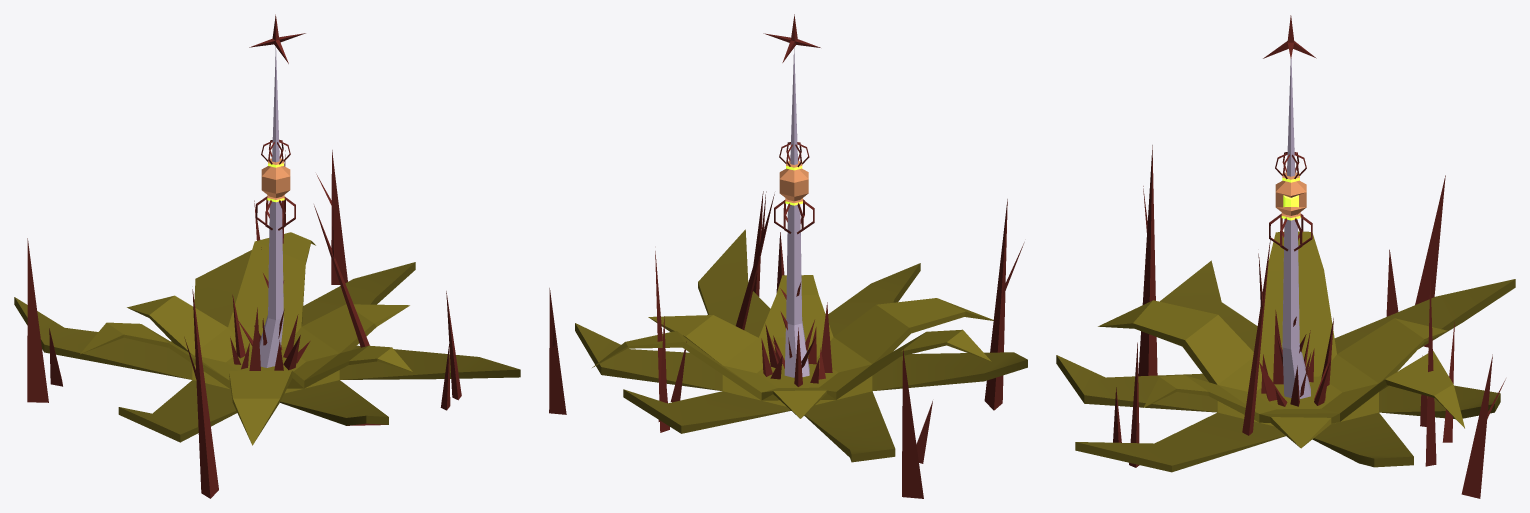
Rendered from Pests-MainPoint2.fbx.
The picture shows the model from 3 angles, left to right: view 1: azimuth 30°, elevation 25°; view 2: azimuth 150°, elevation 25°; view 3: azimuth 270°, elevation 25°; orthographic projection. The views are drawn at different scales.
Visible parts, largest first — view 1: Pests-MainPoint2; view 2: Pests-MainPoint2; view 3: Pests-MainPoint2.
Part boxes in pixels (left/top/right/bottom): Pests-MainPoint2: left=14, top=14, right=520, bottom=498; Pests-MainPoint2: left=549, top=14, right=1027, bottom=498; Pests-MainPoint2: left=1056, top=15, right=1515, bottom=498.
Bounding box in the file's own units: 0.9783 × 0.9534 × 1.01.
